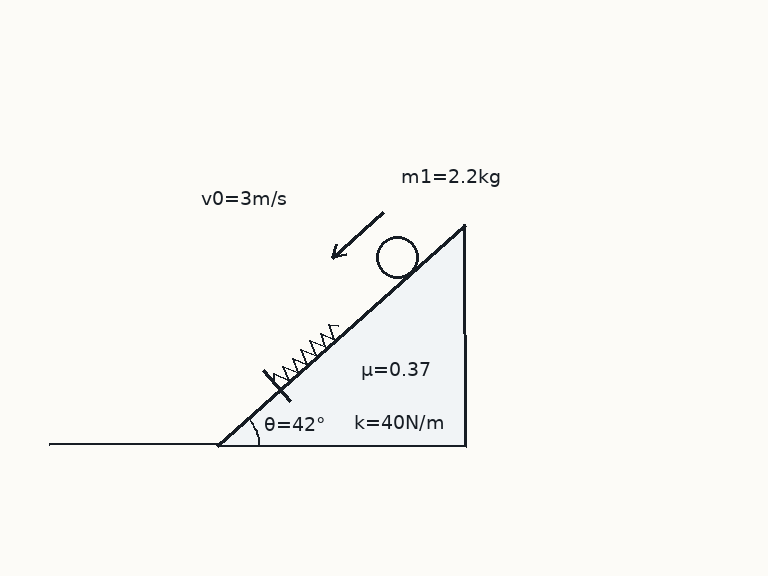ball: (374, 234, 420, 280)
ramp: (217, 222, 467, 447)
spring: (272, 322, 340, 385)
